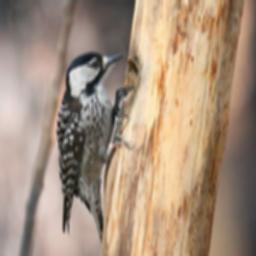Woodpecker: (57, 50, 135, 240)
